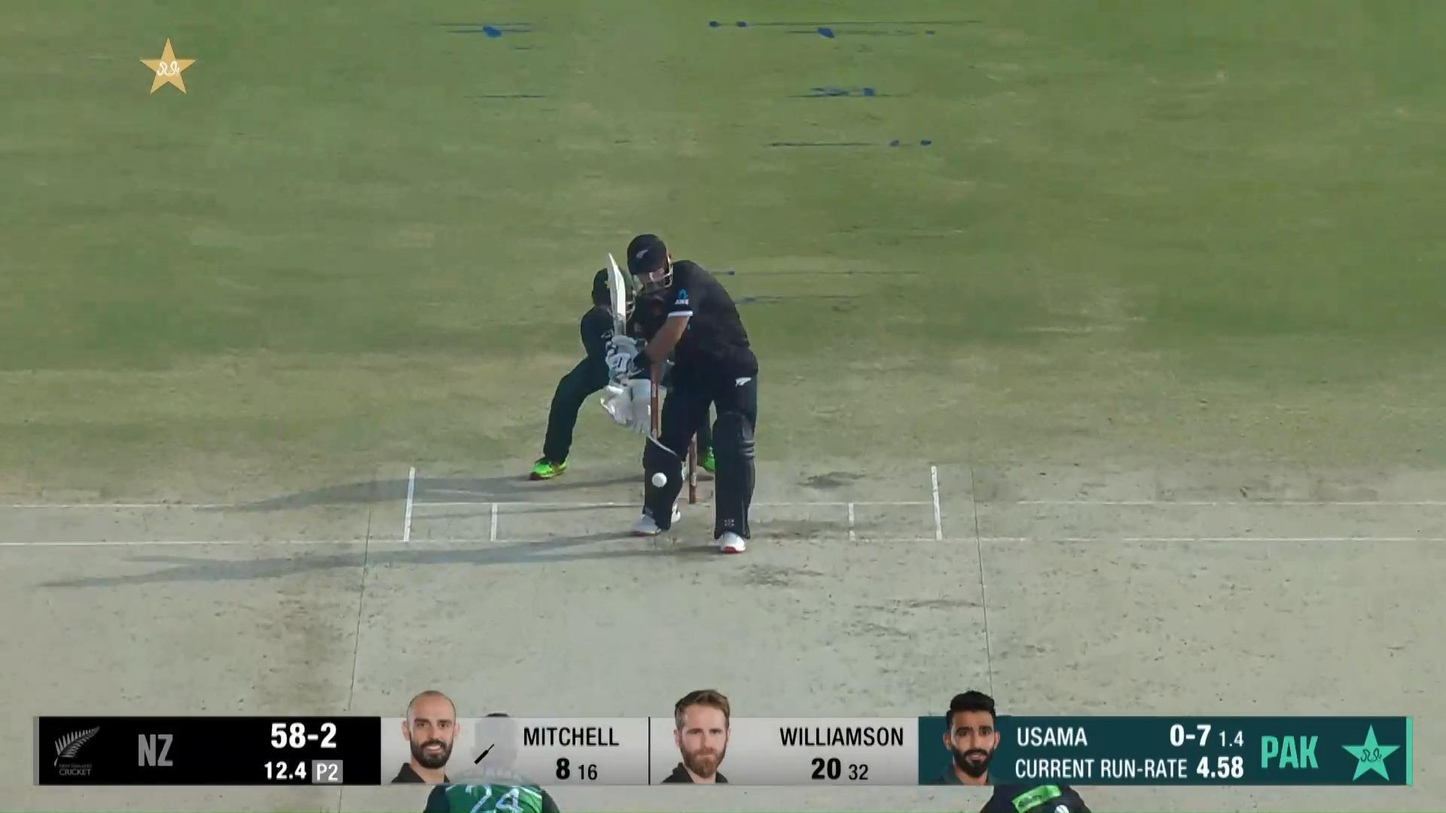BM 1: (601, 233, 760, 554)
BO: (421, 710, 563, 813)
